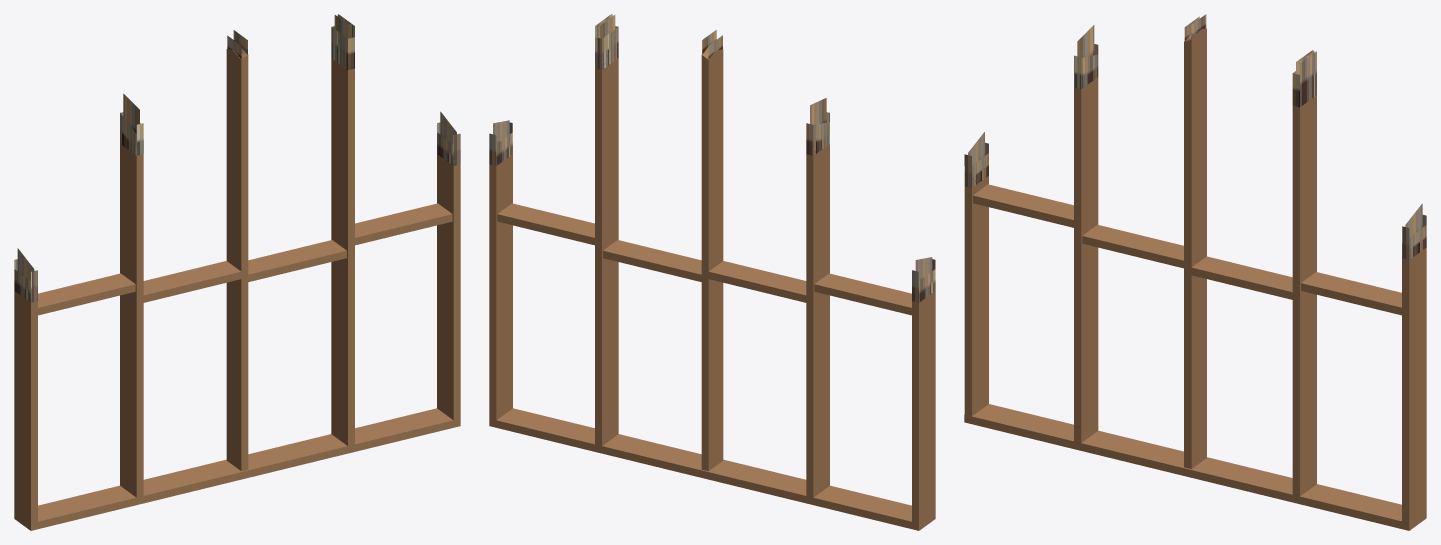
The model's file is DBK_WoodFrame_Tile_D.fbx.
3 views of the same model, side by side, from view 1: azimuth 30°, elevation 25°; view 2: azimuth 150°, elevation 25°; view 3: azimuth 330°, elevation 25° (orthographic). The views are drawn at different scales.
Visible parts, largest first — view 1: DBK_WoodFrame_Tile_D; view 2: DBK_WoodFrame_Tile_D; view 3: DBK_WoodFrame_Tile_D.
Boxes of the visible parts, x1,y1,x2,y2 form: DBK_WoodFrame_Tile_D: [14, 14, 460, 530]; DBK_WoodFrame_Tile_D: [489, 14, 935, 530]; DBK_WoodFrame_Tile_D: [964, 14, 1426, 530].
Size of the model in its own units: 300 by 291 by 20.
